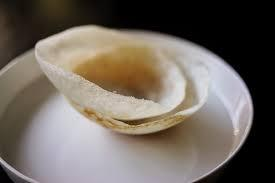Hoppers: (34, 14, 220, 142)
